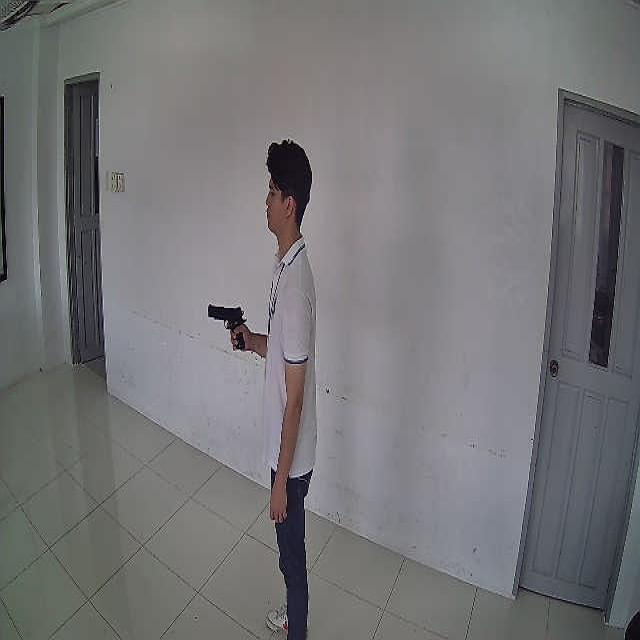pistol: (208, 305, 245, 351)
